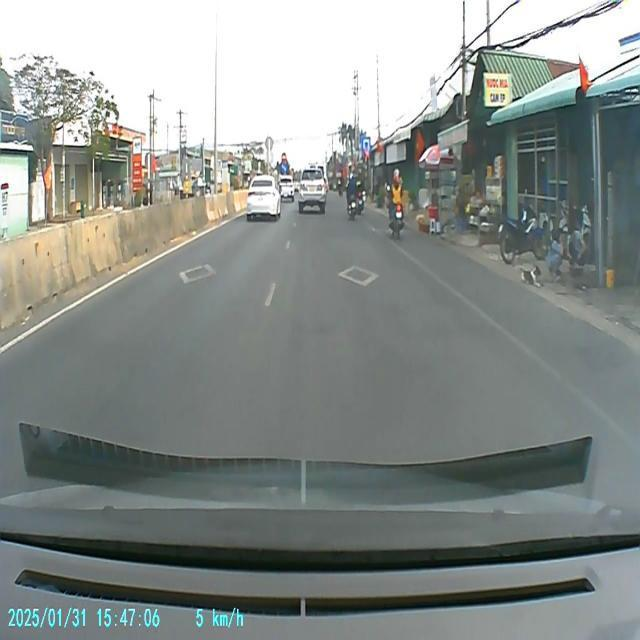102-cam-di-nguoc-chieu: (281, 152, 287, 162)
302a-huong-phai-di-vong-chuong-ngai-vat-1: (280, 162, 288, 174)
